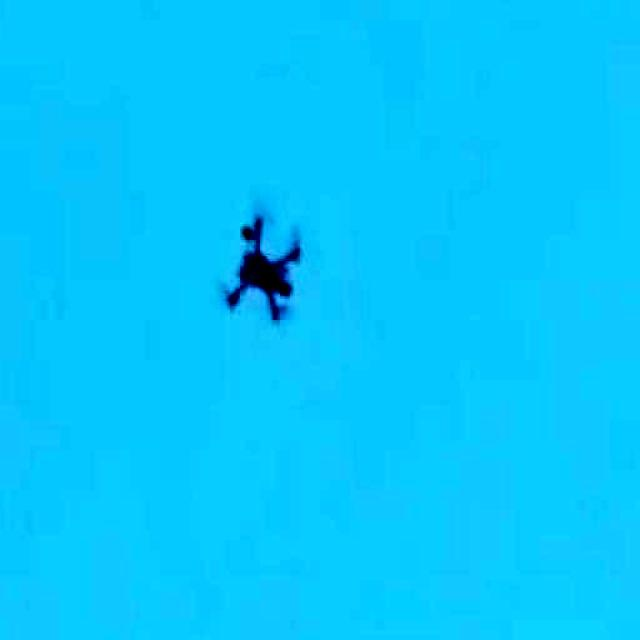bird: (216, 204, 306, 330)
